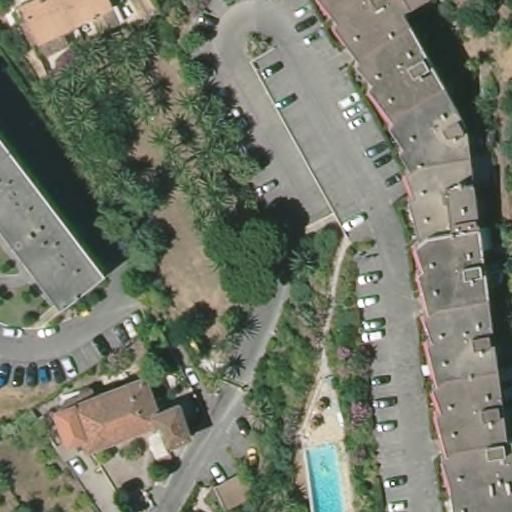pool: (299, 440, 348, 511)
